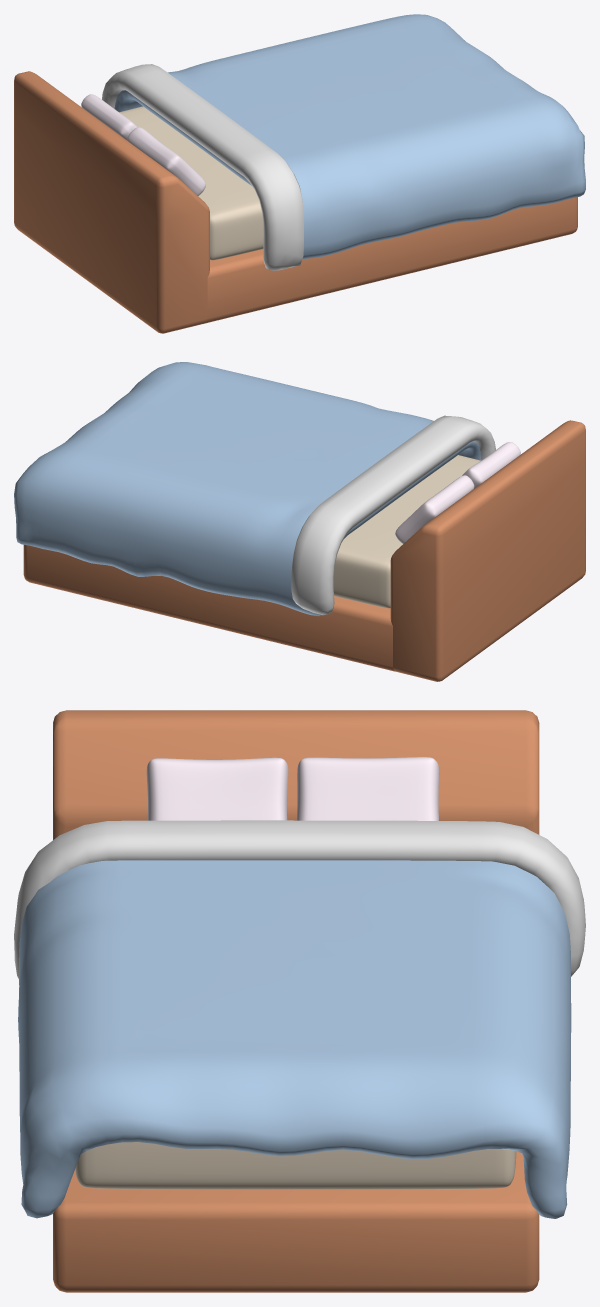
Rendered from bed.glb.
3 views of the same model, one above another, from view 1: azimuth 30°, elevation 25°; view 2: azimuth 150°, elevation 25°; view 3: azimuth 270°, elevation 25° (orthographic). The views are drawn at different scales.
Parts seen in each view (by area): view 1: ふとん, ベッドボード, ベッド台, ふとん折り返し, マットレス, まくら1, まくら2; view 2: ふとん, ベッドボード, ベッド台, ふとん折り返し, マットレス, まくら2, まくら1; view 3: ふとん, ベッド台, ベッドボード, ふとん折り返し, マットレス, まくら2, まくら1.
Boxes of the visible parts, x1,y1,x2,y2 form: ふとん: (114,14,585,259); ベッドボード: (14,71,209,333); ベッド台: (206,197,577,323); ふとん折り返し: (102,64,303,270); マットレス: (119,106,263,260); まくら1: (127,127,205,195); まくら2: (81,94,137,140); ふとん: (14,362,481,616); ベッドボード: (390,420,585,681); ベッド台: (23,545,394,671); ふとん折り返し: (291,415,495,615); マットレス: (333,455,480,608); まくら2: (395,475,474,543); まくら1: (462,442,520,488); ふとん: (18,860,571,1218); ベッド台: (53,1151,539,1292); ベッドボード: (53,710,539,839); ふとん折り返し: (14,820,585,978); マットレス: (75,1142,516,1189); まくら2: (296,757,439,820); まくら1: (146,757,288,820).
Size of the model in its own units: 1.83 by 0.6387 by 1.3.
